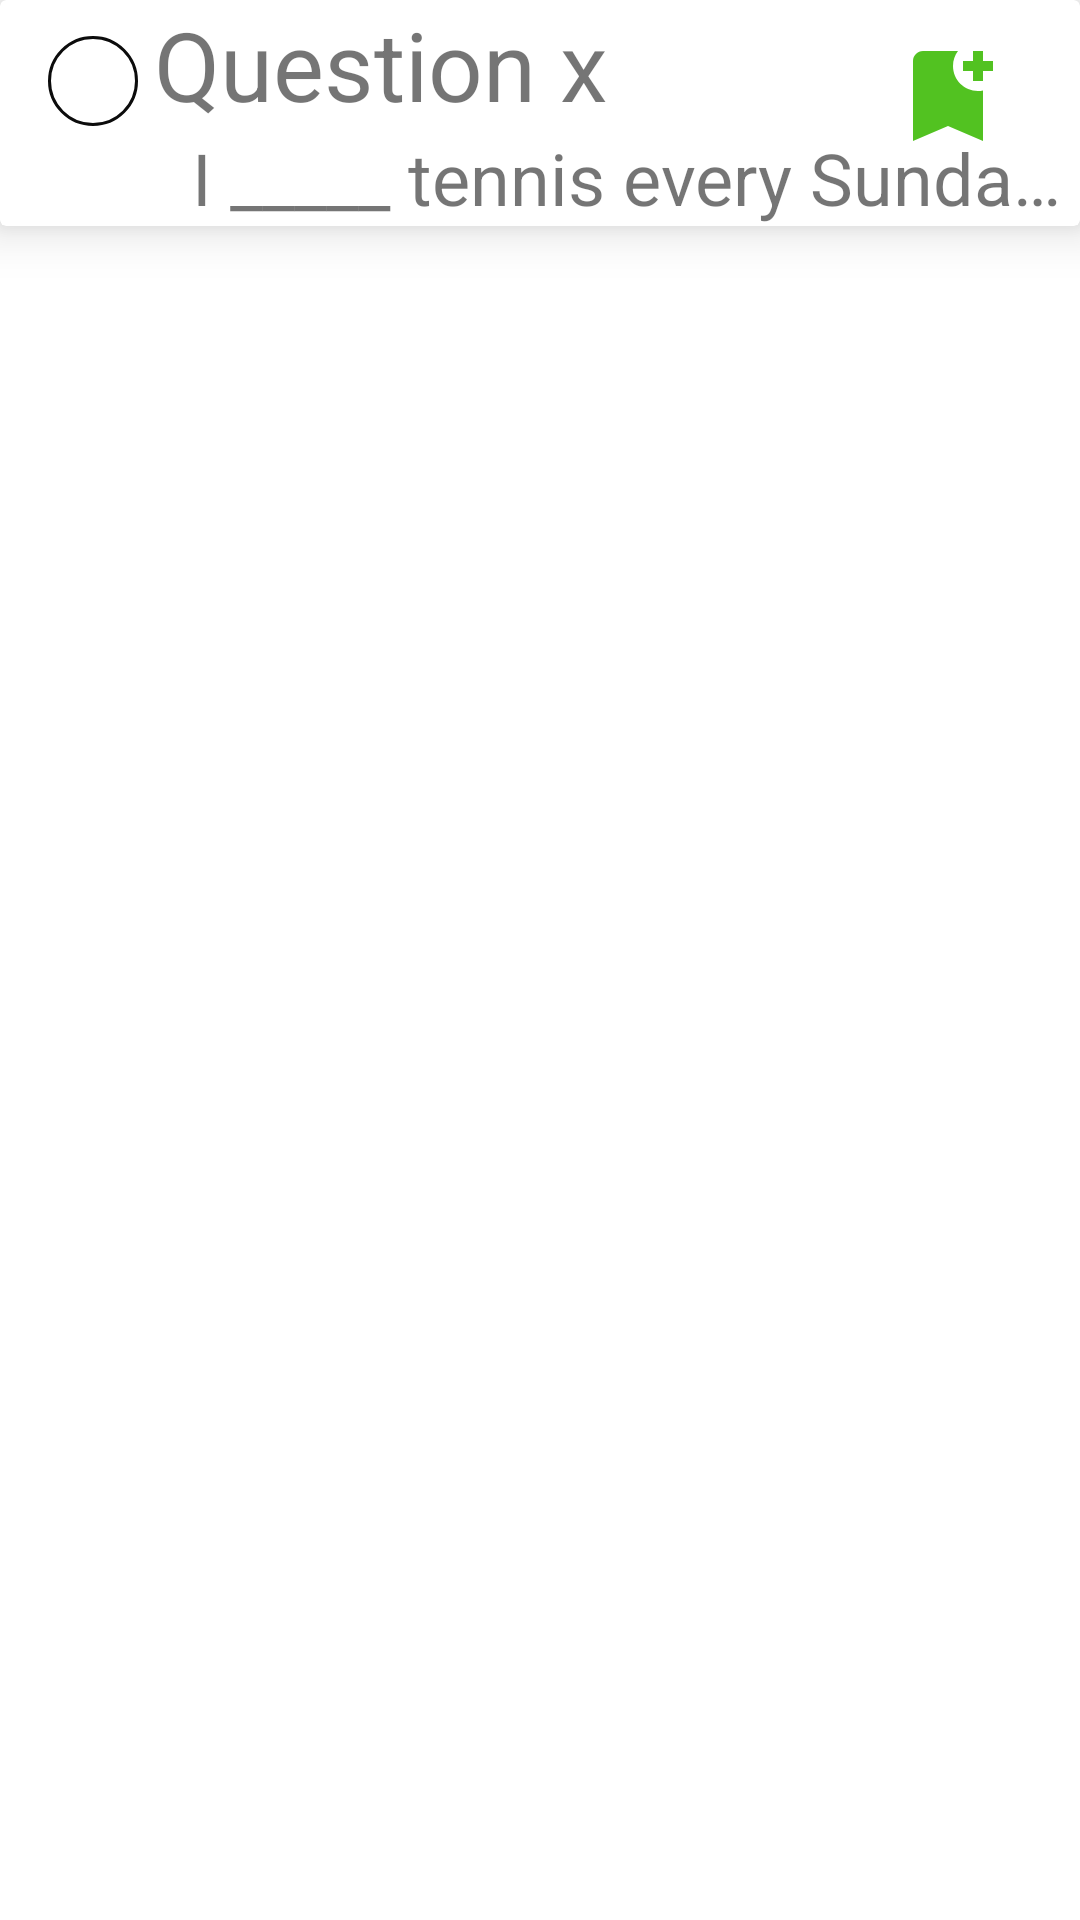

Where icons sit on this 1080px×1920px app screen, as [left=x1, top=y1, right=x2, bottom=y2]:
bookmark add: [left=913, top=51, right=993, bottom=141]
